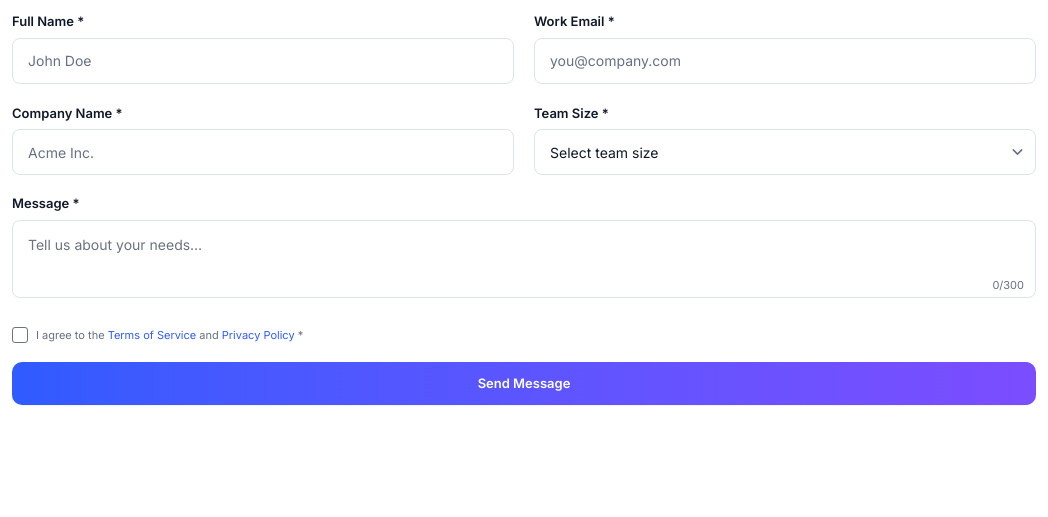
Test: ContactForm › does not submit an empty form and shows an error next to each required field
Click the button "Send Message": x=524, y=384 x1=12 y1=362 x2=1036 y2=405
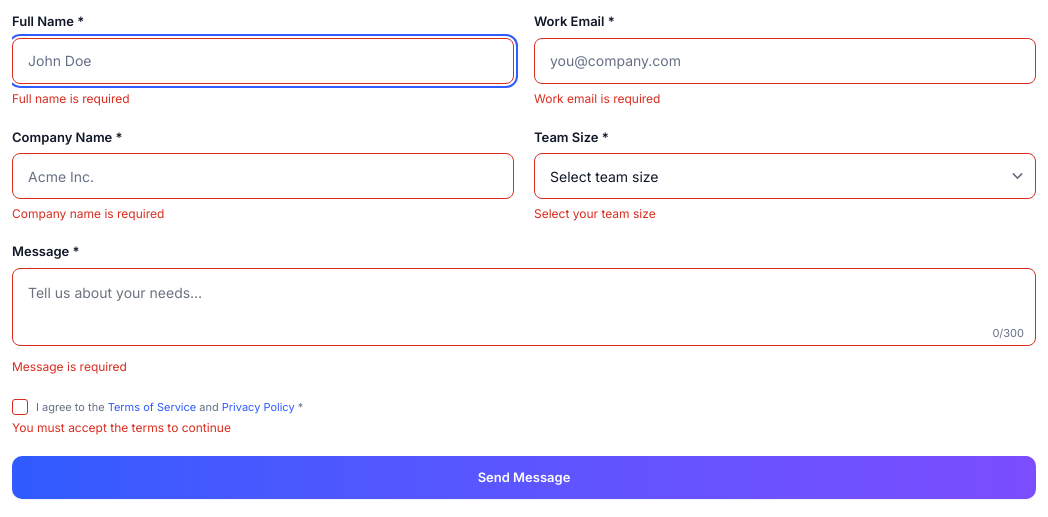
Expected: the text "Full name is required" is shown, x1=12 y1=90 x2=130 y2=106
Expected: the text "Work email is required" is shown, x1=534 y1=90 x2=660 y2=106
Expected: the text "Company name is required" is shown, x1=12 y1=206 x2=164 y2=221
